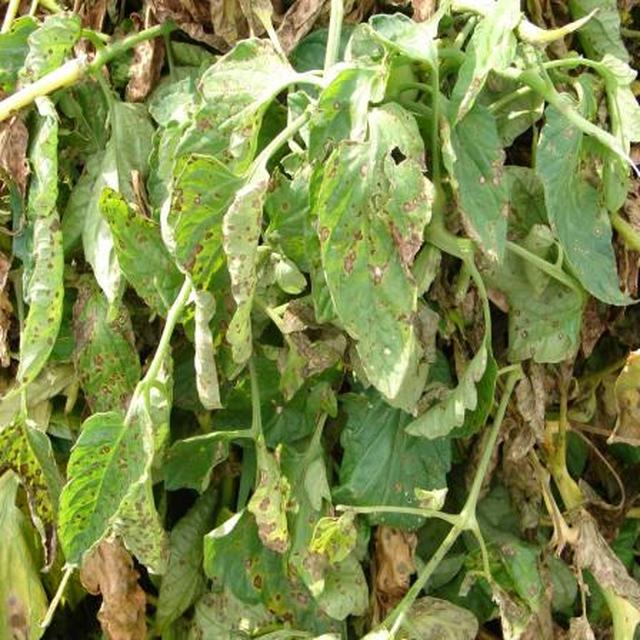Septoria Leaf: (47, 105, 640, 640)
